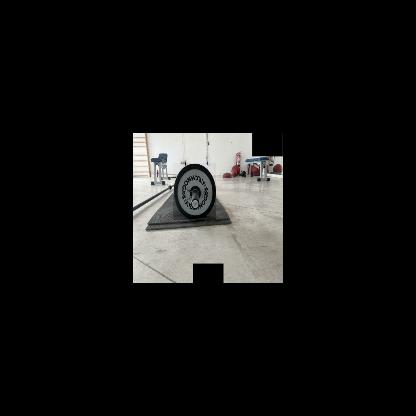barbell: (173, 164, 216, 220)
